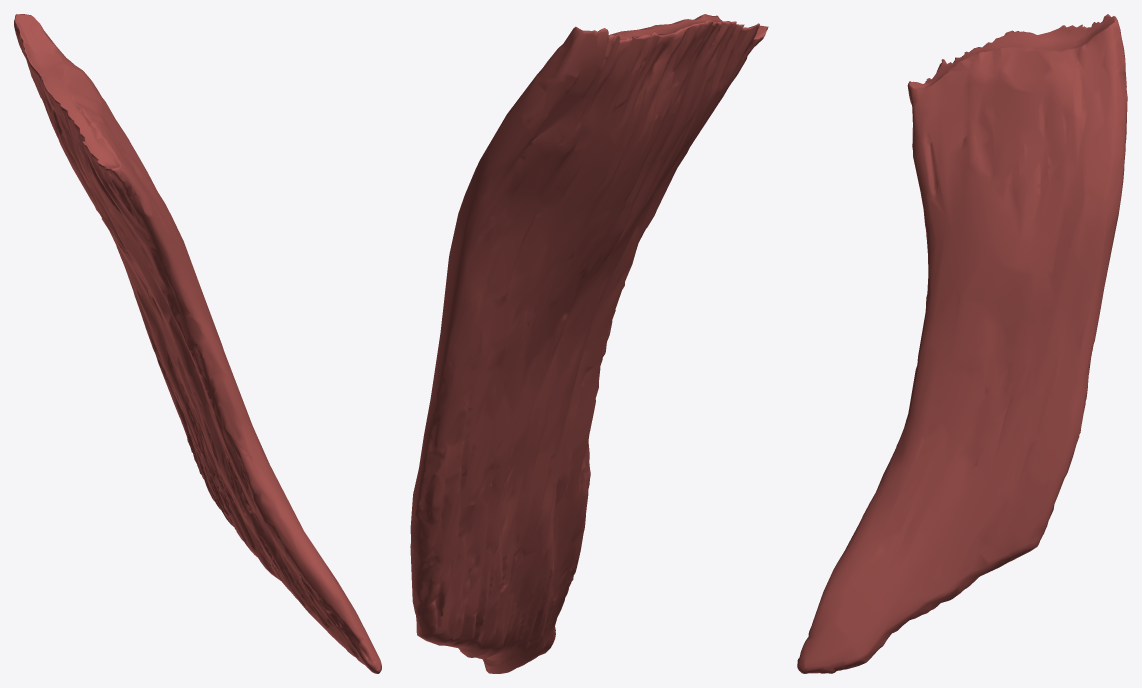
Rendered from FMA49001.glb.
3 renders of one model, left to right at view 1: azimuth 30°, elevation 25°; view 2: azimuth 150°, elevation 25°; view 3: azimuth 270°, elevation 25°, orthographic. The views are drawn at different scales.
Visible parts, largest first — view 1: FMA49001; view 2: FMA49001; view 3: FMA49001.
Part boxes in pixels (x1,y1,x2,y2): FMA49001: (14, 14, 381, 673); FMA49001: (410, 14, 768, 673); FMA49001: (797, 14, 1127, 673).
Size of the model in its own units: 0.0262 by 0.0634 by 0.0336.
